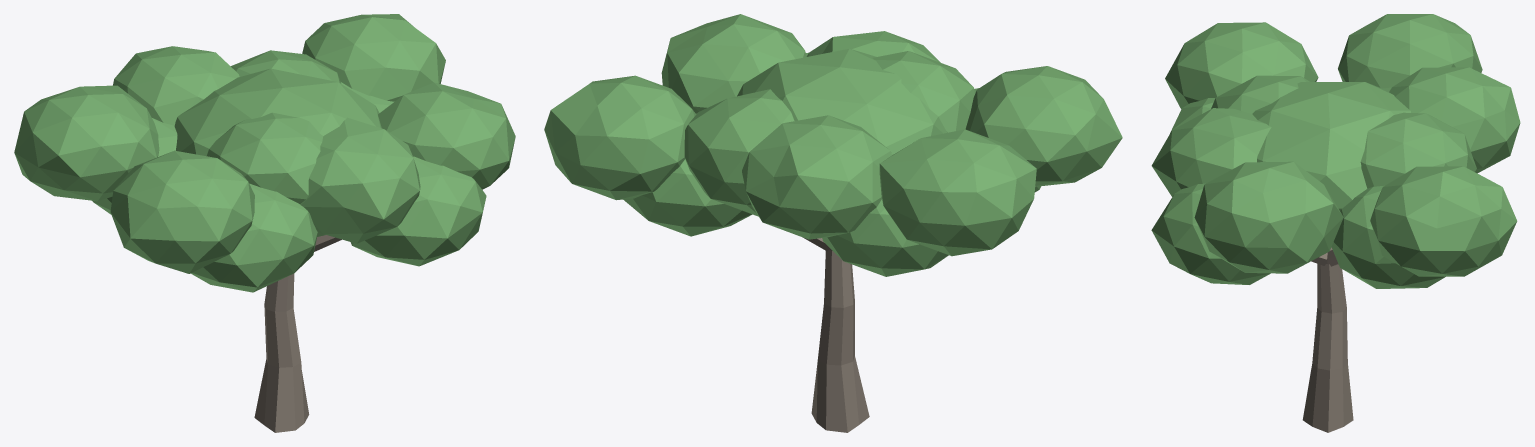
Rendered from tree_plane.glb.
3 renders of one model, left to right at view 1: azimuth 30°, elevation 25°; view 2: azimuth 150°, elevation 25°; view 3: azimuth 270°, elevation 25°, orthographic. The views are drawn at different scales.
Visible parts, largest first — view 1: tree_plane; view 2: tree_plane; view 3: tree_plane.
Part boxes in pixels (bbox=[...]): tree_plane: bbox=[14, 14, 515, 432]; tree_plane: bbox=[544, 14, 1122, 432]; tree_plane: bbox=[1151, 14, 1520, 432].
Bounding box in the file's own units: 9.77 × 7.3 × 7.46.
